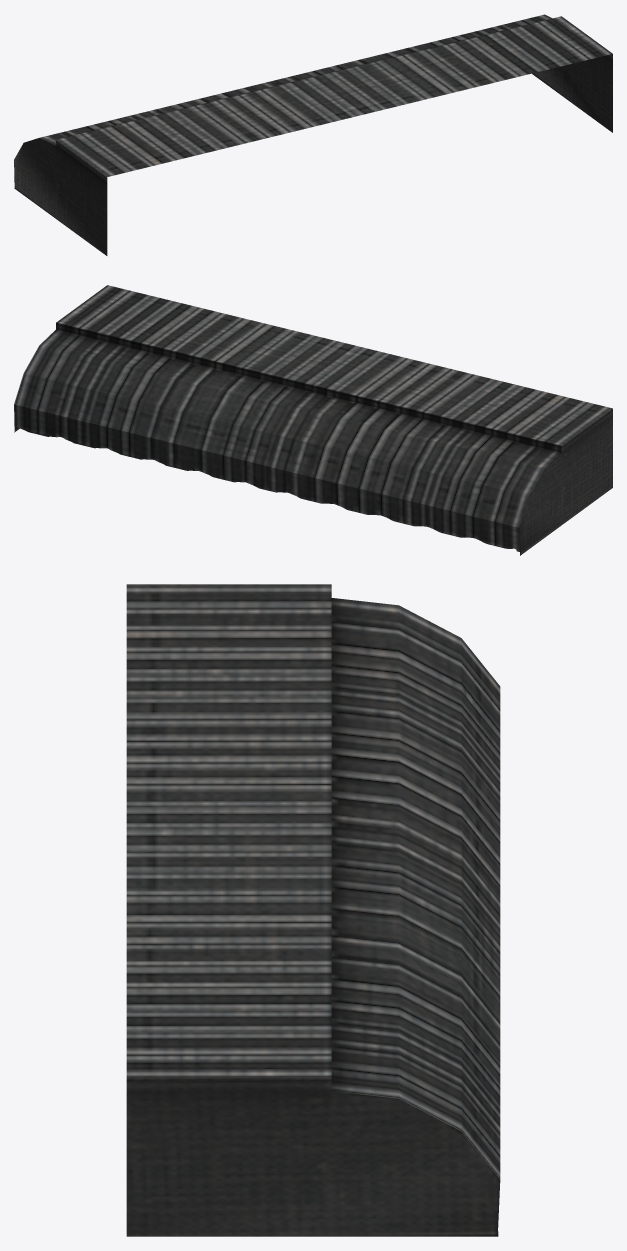
The model's file is Awning_01.FBX.
3 renders of one model, top to bottom at view 1: azimuth 30°, elevation 25°; view 2: azimuth 150°, elevation 25°; view 3: azimuth 270°, elevation 25°, orthographic. The views are drawn at different scales.
Visible parts, largest first — view 1: Awning_005; view 2: Awning_005; view 3: Awning_005.
Part boxes in pixels (x1,y1,x2,y2): Awning_005: (14,14,612,255); Awning_005: (14,285,612,555); Awning_005: (126,584,500,1236).
Bounding box in the file's own units: 114 × 17.16 × 36.58.
